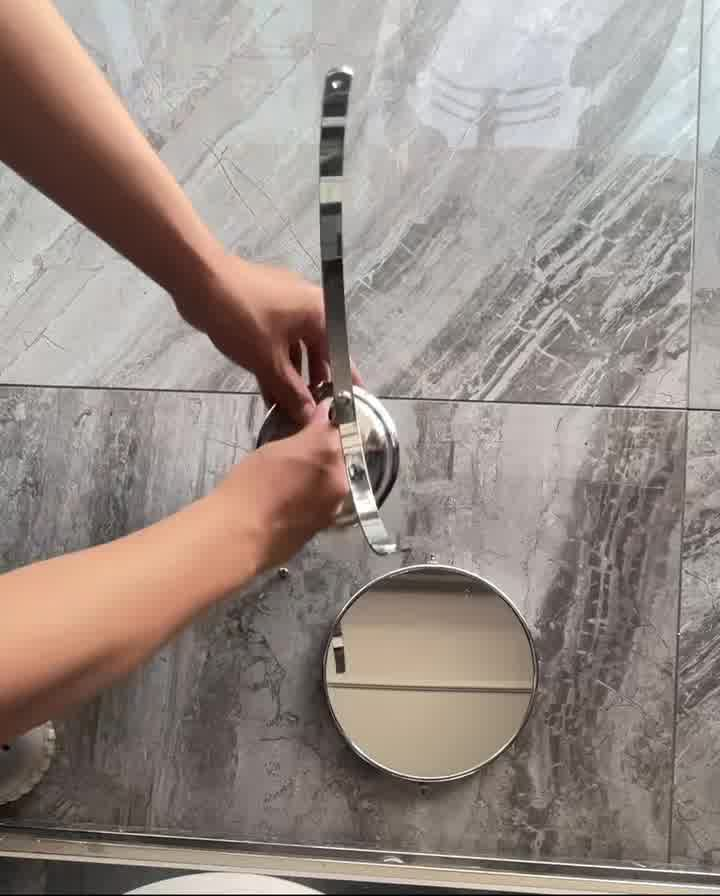base: (266, 384, 409, 522)
frame: (270, 67, 406, 554)
mirror: (304, 561, 549, 790)
screw: (270, 561, 298, 582)
